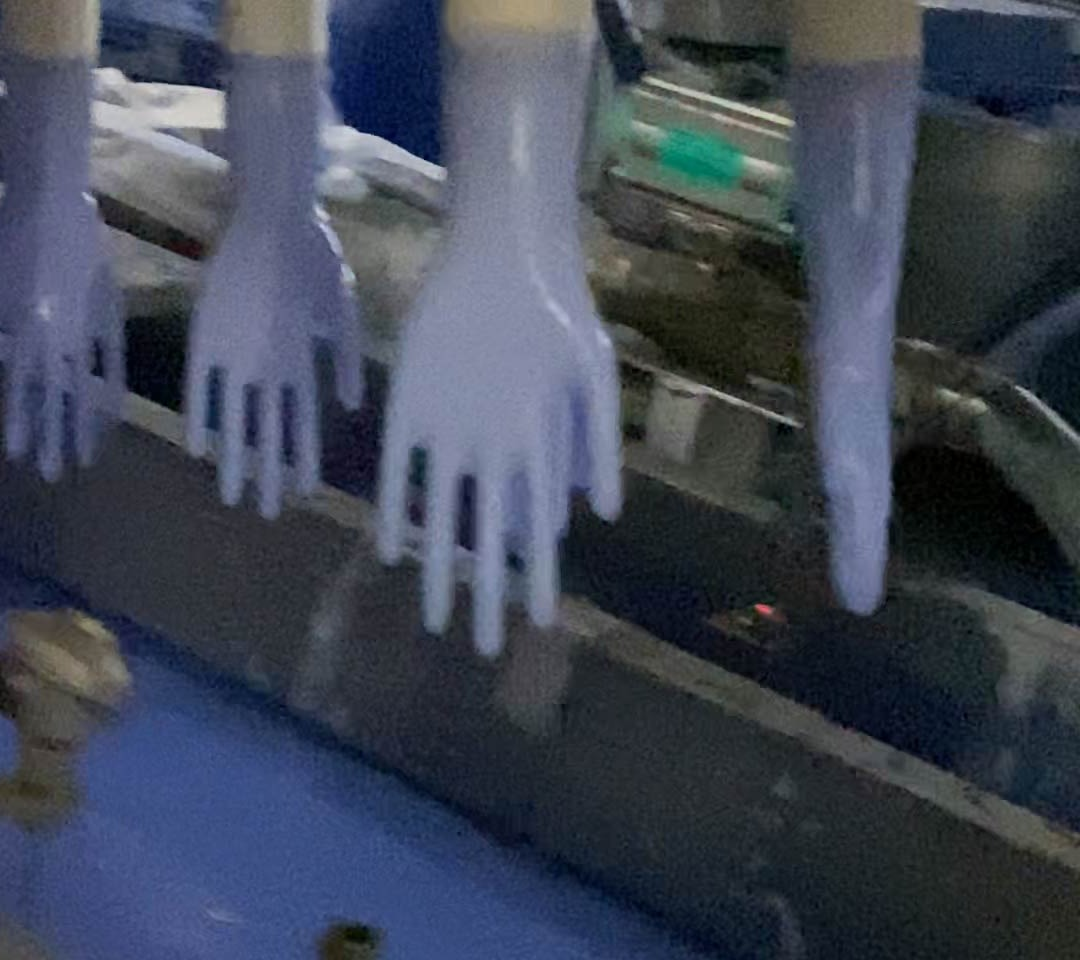glove: (371, 25, 626, 658), (178, 54, 365, 520), (777, 51, 926, 622), (1, 49, 129, 488)
